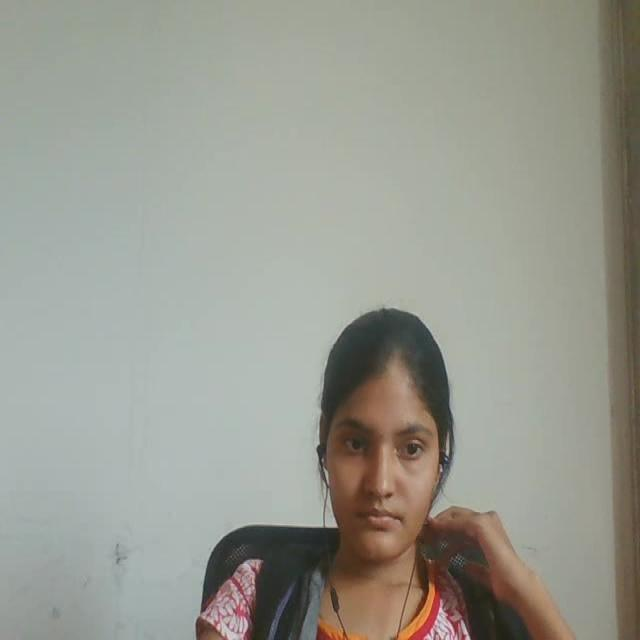Engaged: (292, 287, 476, 580)
